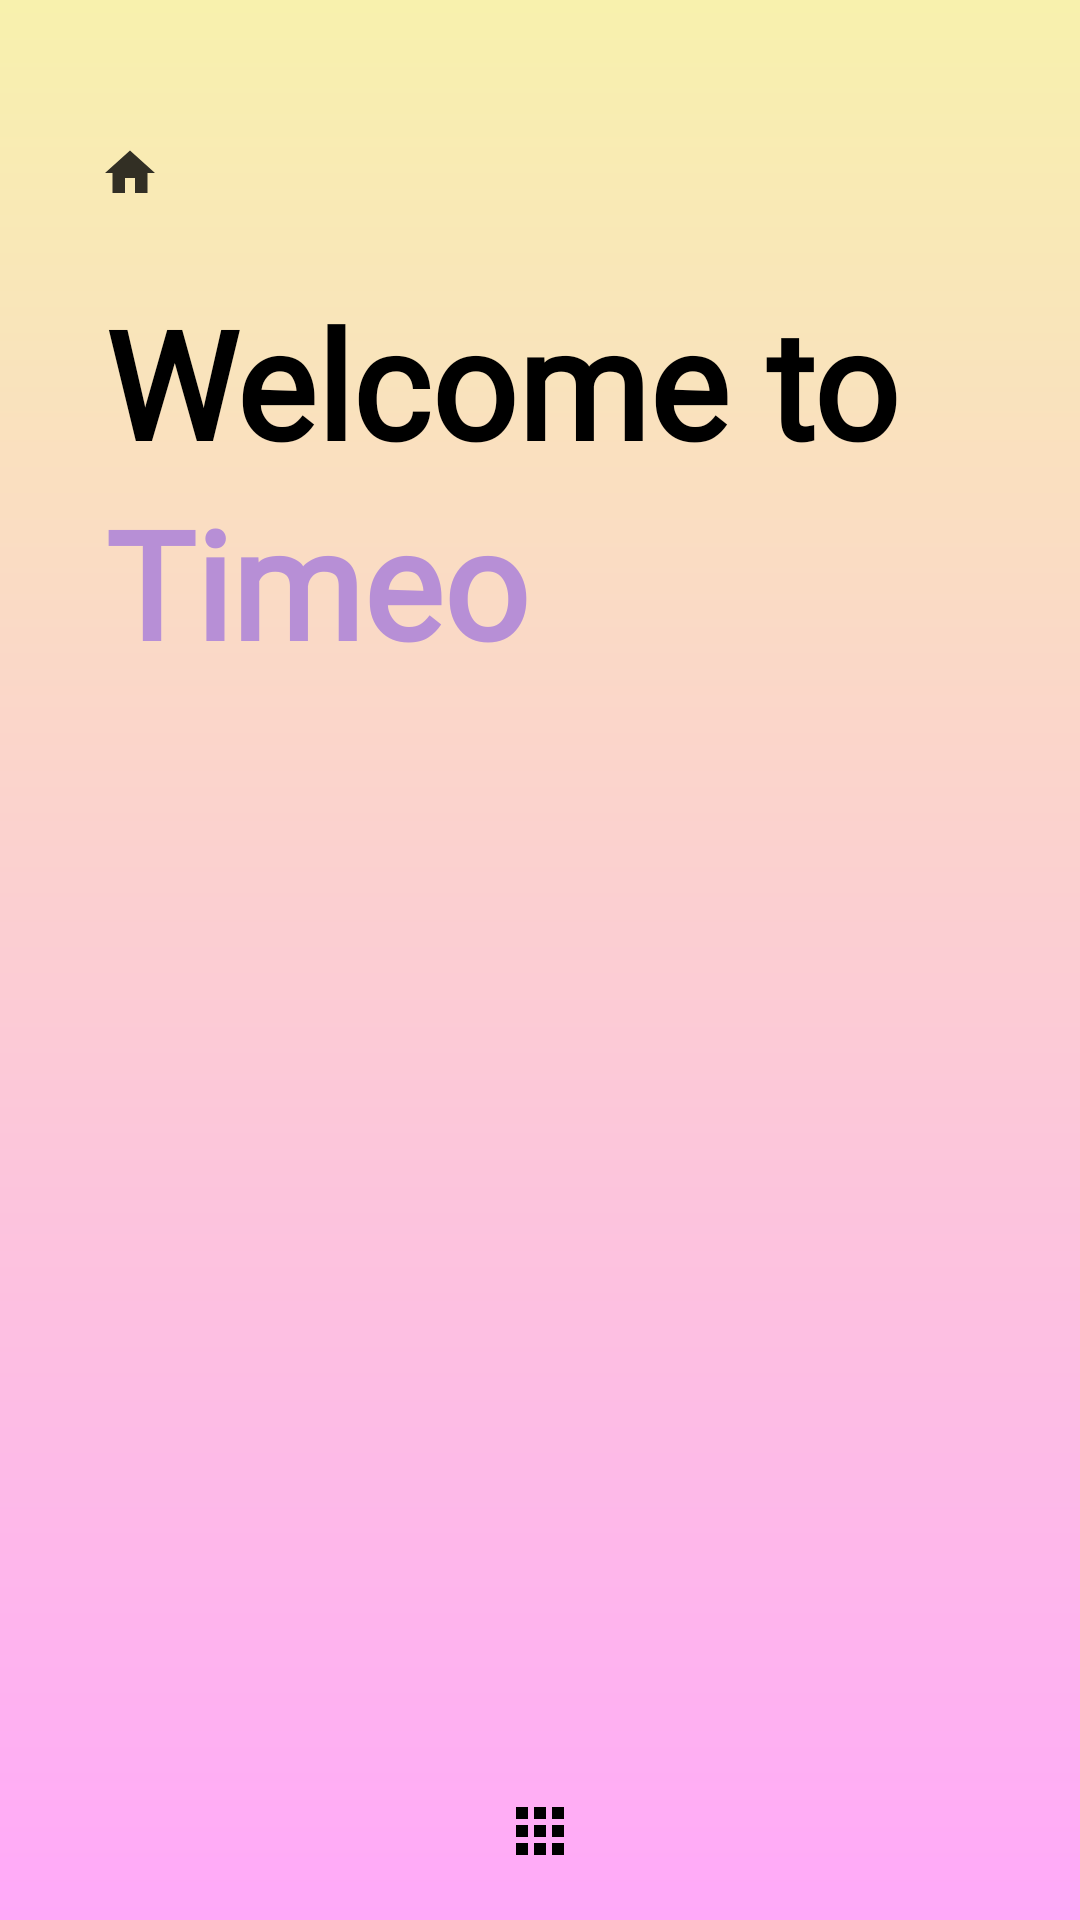

Icon bounding boxes for this 1080 x 1920 phone screenshot, format (x1, y1, x2, y2):
home: (105, 150, 155, 193)
